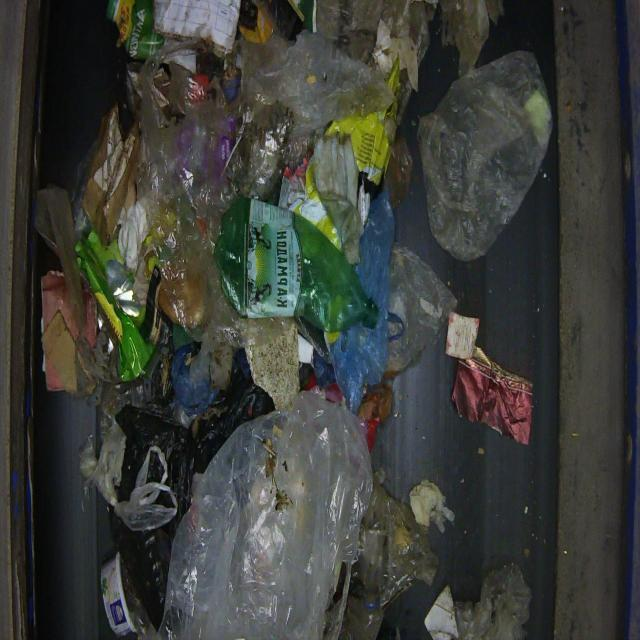other-trash: (33, 0, 554, 638)
